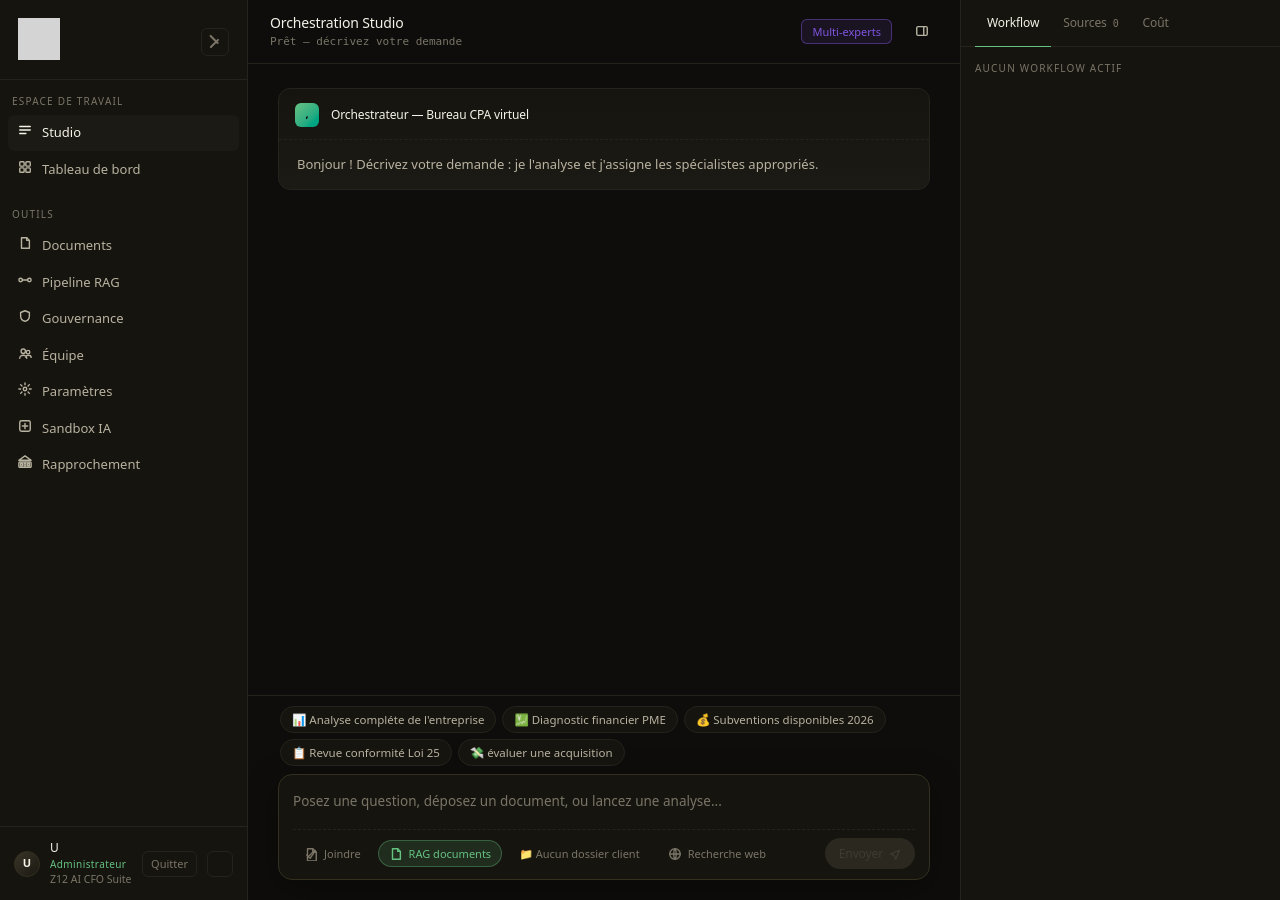
settings view › opens for the administrator on the invitations tab, with budgets one tab away
The image size is (1280, 900).
Click the element showing "Paramètres" at [65, 391], box top-left (18, 382), bottom-right (112, 400)
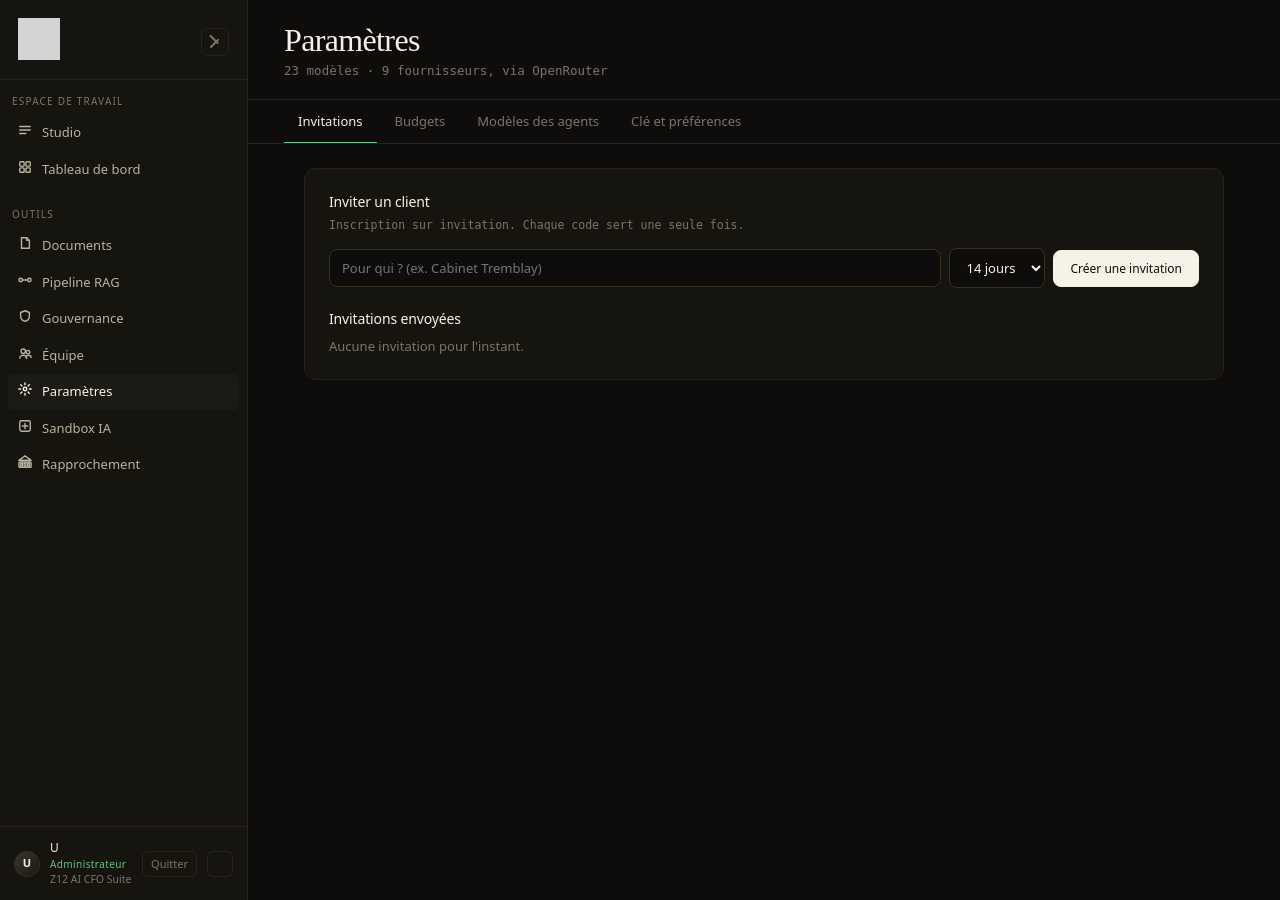
Now the element with test id "invitations-panel" is shown, box top-left (304, 168), bottom-right (1224, 380)
Click the tab with test id "settings-tab-budgets" at [420, 122], box top-left (381, 100), bottom-right (459, 144)
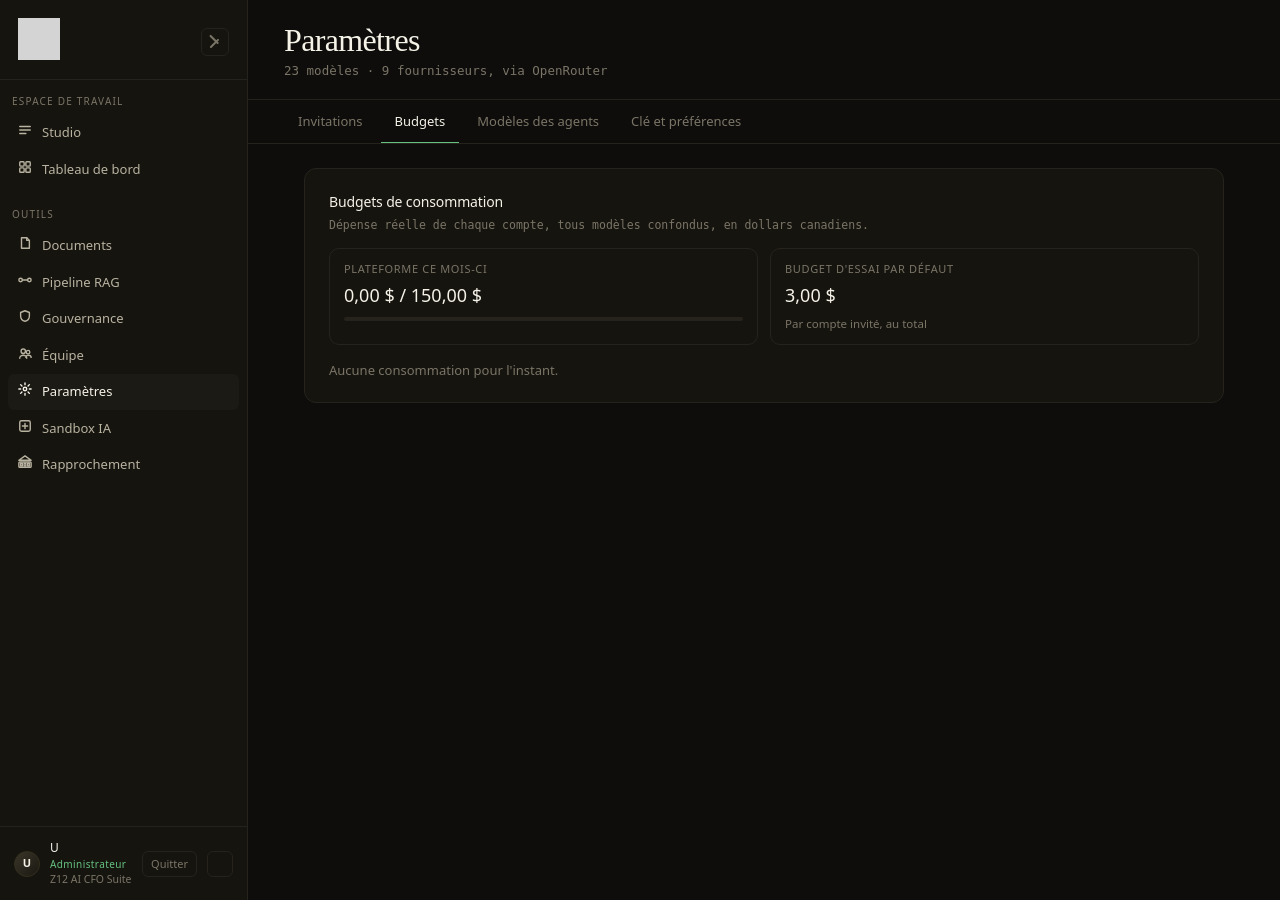
Now the element with test id "budgets-panel" is shown, box top-left (304, 168), bottom-right (1224, 403)
Now the element with test id "invitations-panel" is gone
